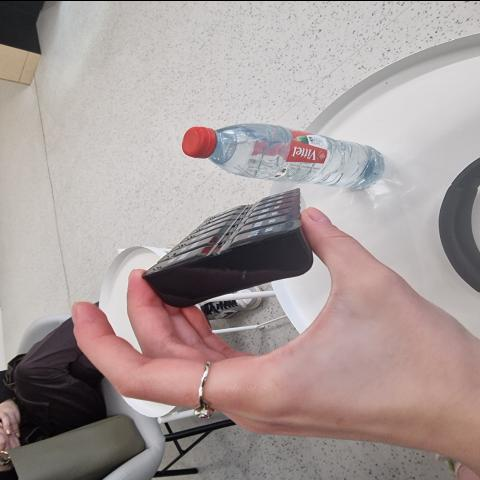PillBox: (140, 182, 328, 318)
